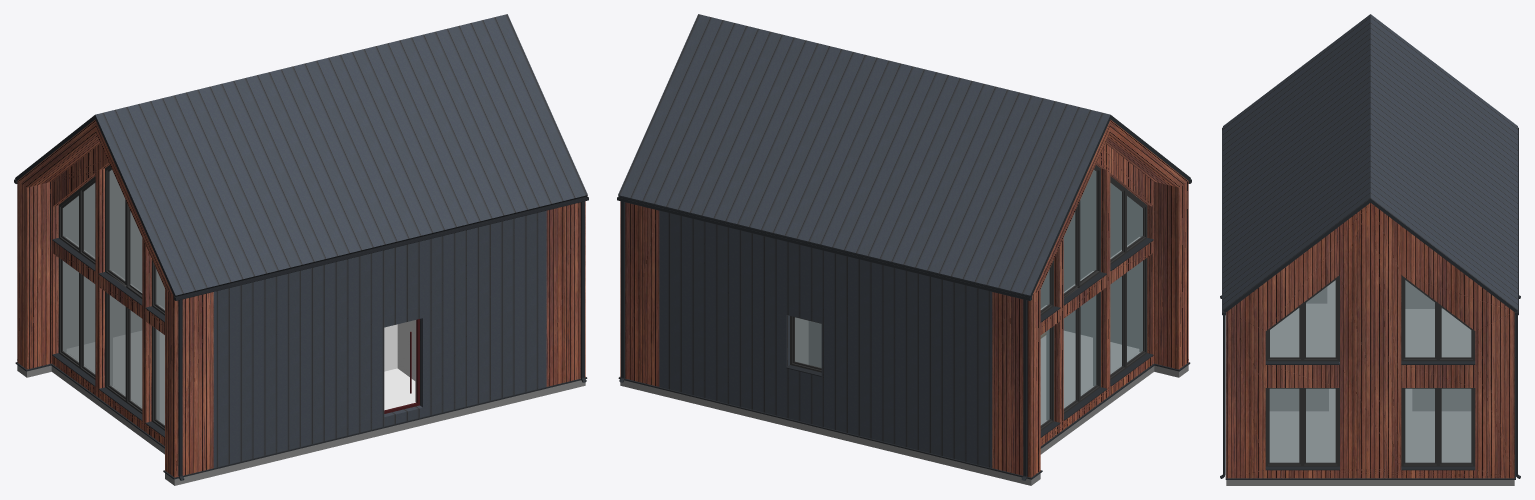
Rendered from DOM 1b_3D_rev7.obj.
3 views of the same model, side by side, from view 1: azimuth 30°, elevation 25°; view 2: azimuth 150°, elevation 25°; view 3: azimuth 270°, elevation 25° (orthographic). The views are drawn at different scales.
Visible parts, largest first — view 1: Mesh10 Model, Mesh17 Model, Mesh16 Model, Mesh13 Model; view 2: Mesh10 Model, Mesh9 Model, Mesh12 Model; view 3: Mesh10 Model, Mesh12 Model, Mesh13 Model.
Boxes of the visible parts, bbox=[...] form: Mesh10 Model: bbox=[14, 14, 587, 485]; Mesh17 Model: bbox=[174, 196, 588, 300]; Mesh16 Model: bbox=[178, 299, 184, 480]; Mesh13 Model: bbox=[580, 201, 586, 382]; Mesh10 Model: bbox=[617, 14, 1190, 485]; Mesh9 Model: bbox=[1021, 299, 1027, 480]; Mesh12 Model: bbox=[619, 201, 625, 382]; Mesh10 Model: bbox=[1223, 14, 1518, 485]; Mesh12 Model: bbox=[1515, 315, 1520, 478]; Mesh13 Model: bbox=[1220, 315, 1225, 478].
Size of the model in its own units: 1062 by 771 by 730.
Materials: 12 (4 with a texture image).
